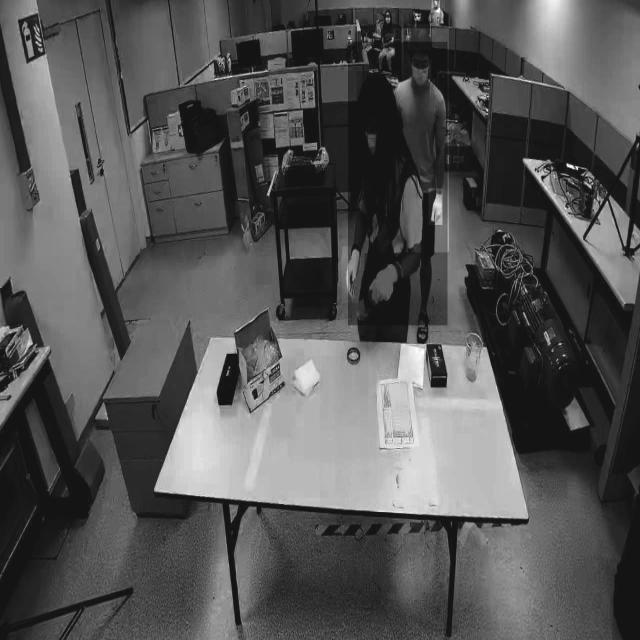face_mask: (358, 128, 384, 160), (410, 60, 432, 86), (431, 0, 440, 13), (383, 14, 391, 28)
hand_glove: (364, 253, 402, 315), (342, 246, 362, 304), (429, 188, 443, 226)
head_nohelmet: (357, 71, 397, 102), (408, 24, 432, 51), (383, 8, 391, 14)
person: (348, 42, 448, 326), (392, 29, 449, 252), (377, 12, 397, 82)
